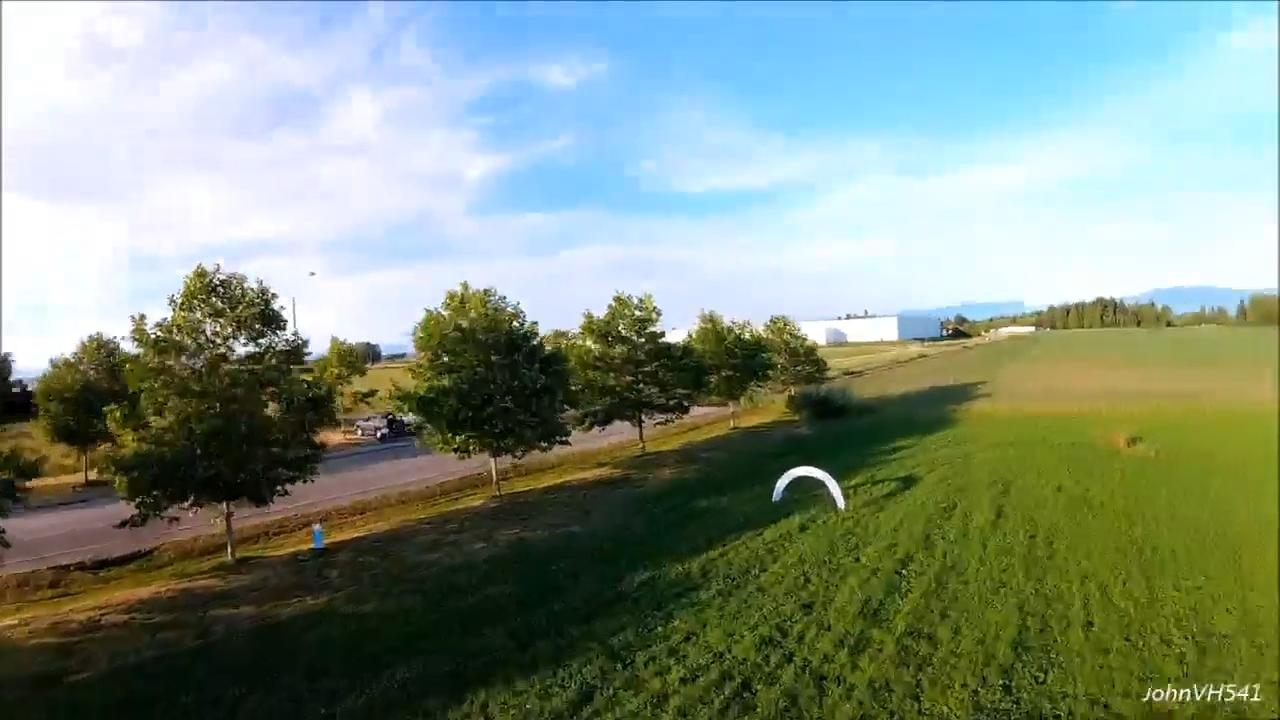gate: (770, 465, 847, 509)
